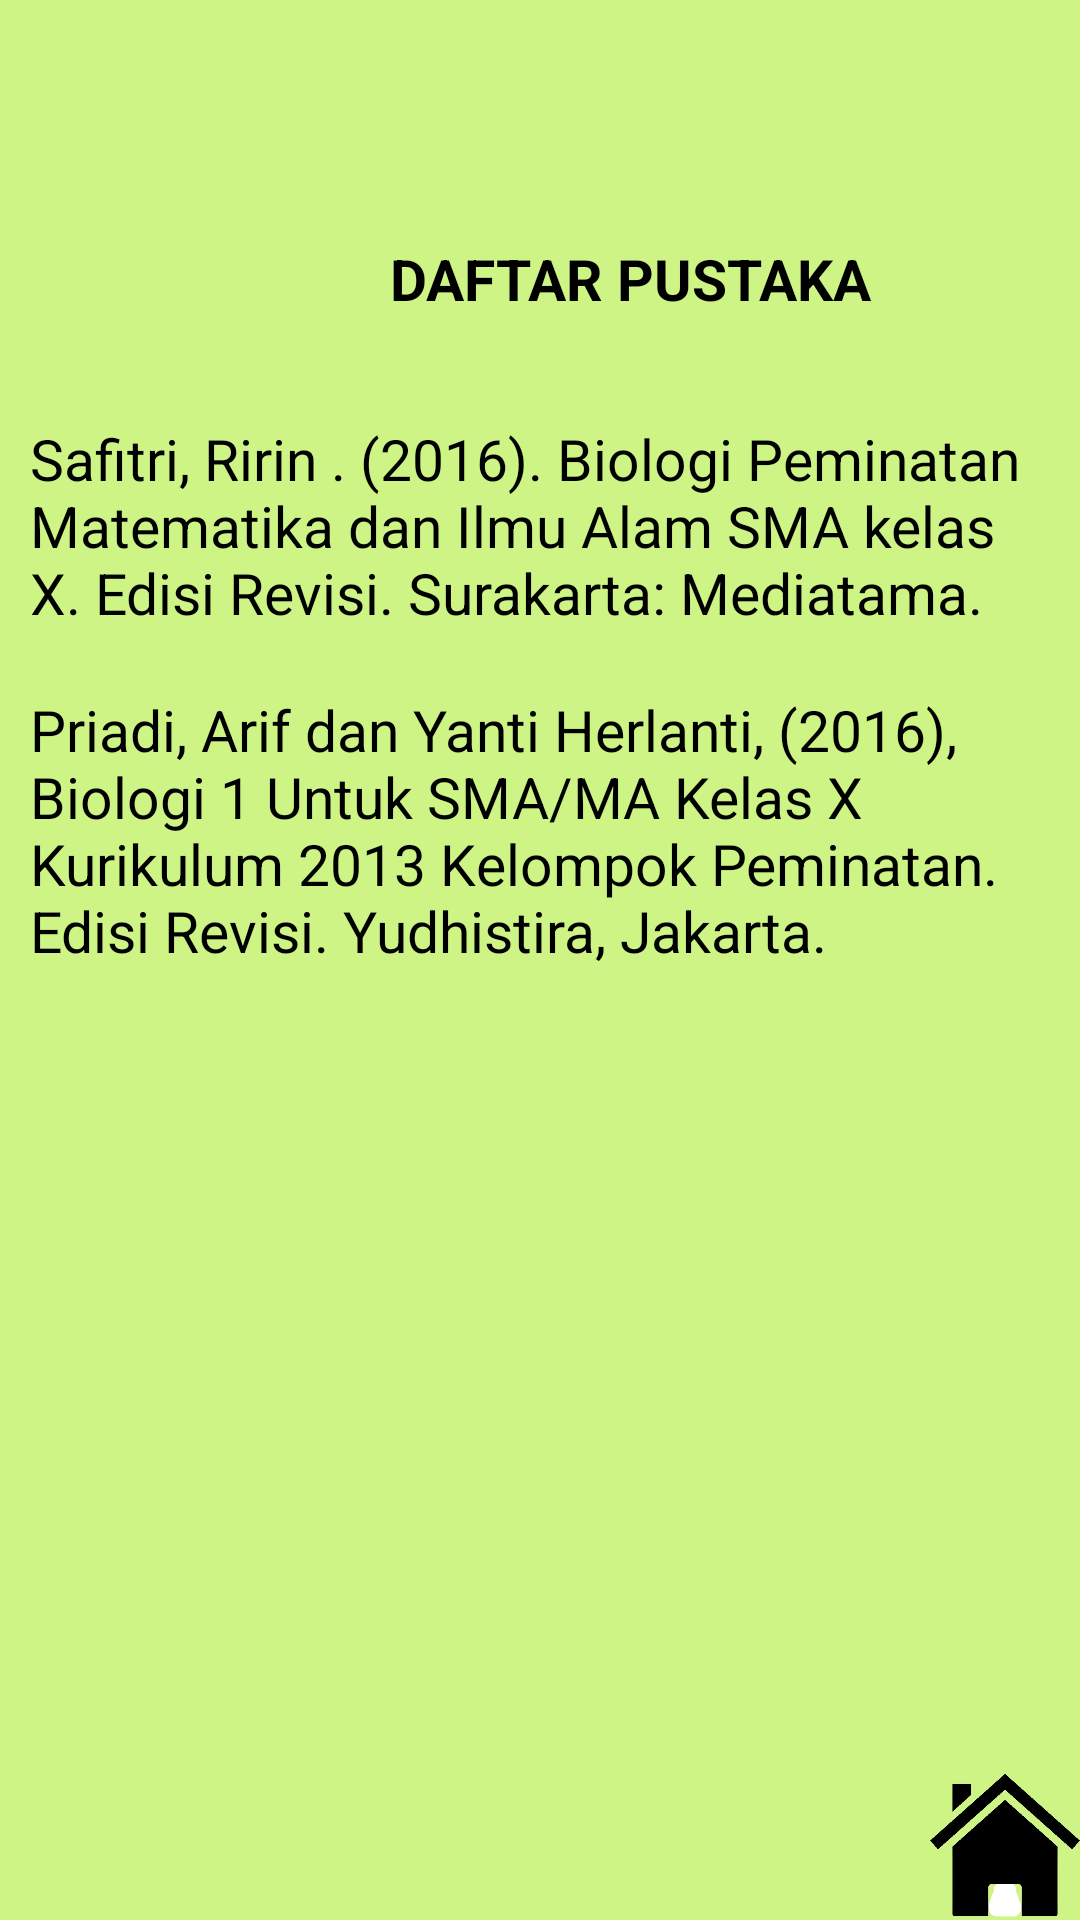

Icon click points for this 1080×1920 phone screenshot, format (x,y):
rumah: (1005,1845)
